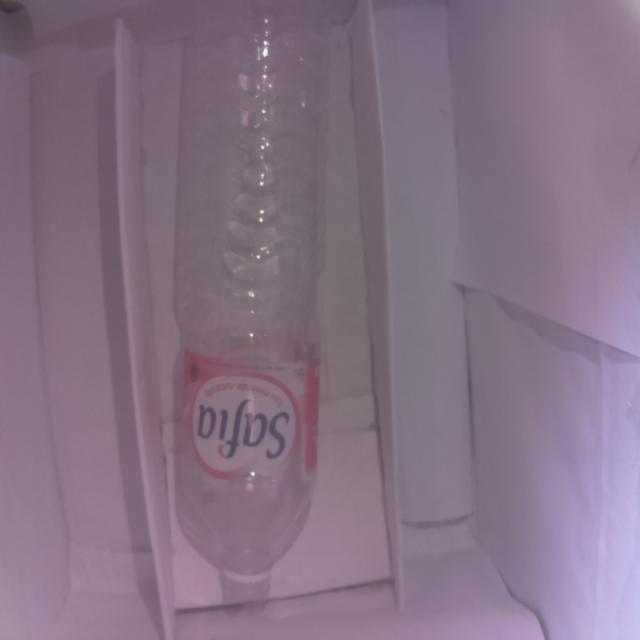Anorganik: (150, 0, 347, 617)
